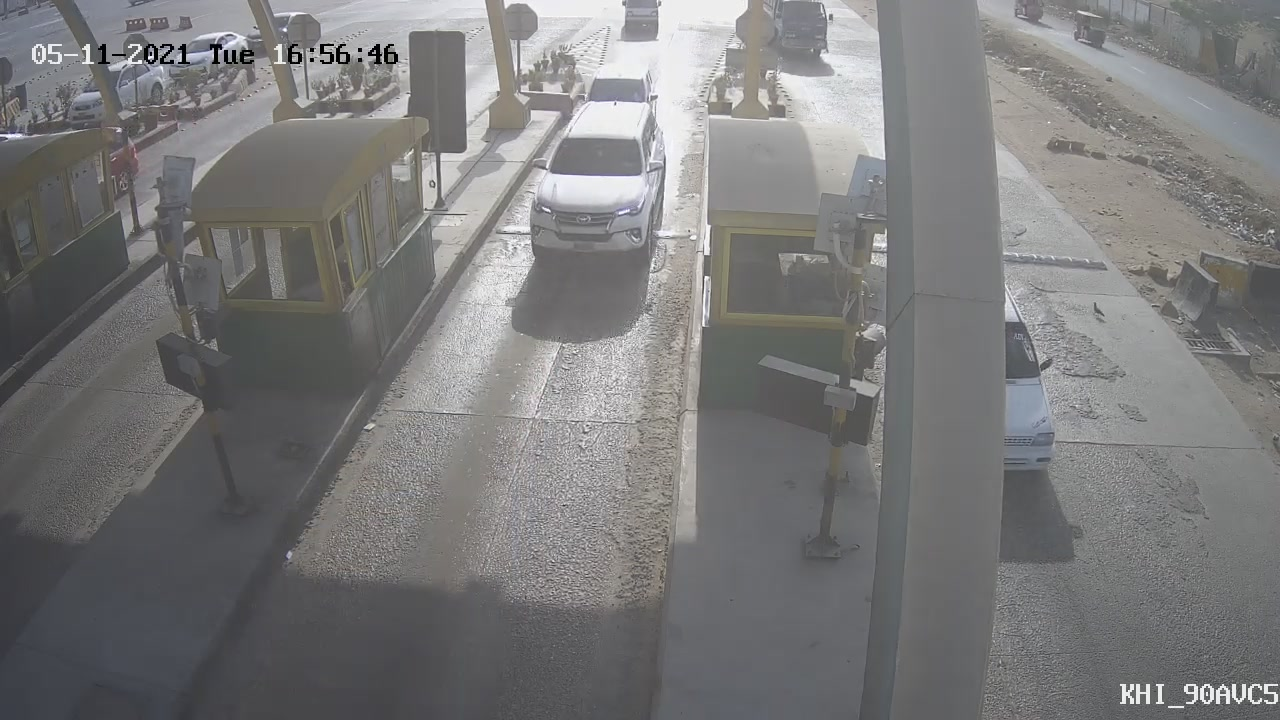F1: (499, 79, 691, 283)
